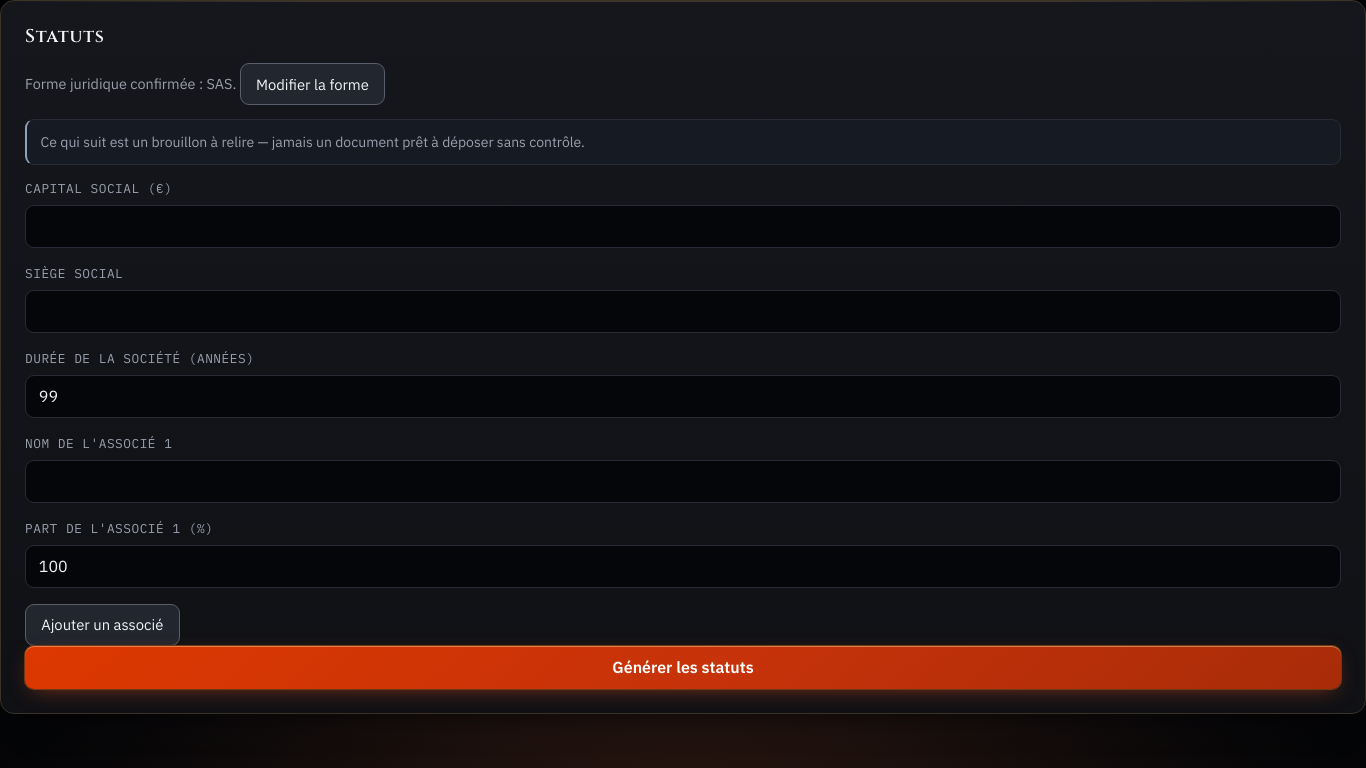
Test: StatutsSection › refuse d'appeler l'API quand les parts ne totalisent pas 100 %
Step 1. Type "1 000,50" into the field labelled "Capital social (€)" → (683, 226), box [25,205,1341,248]
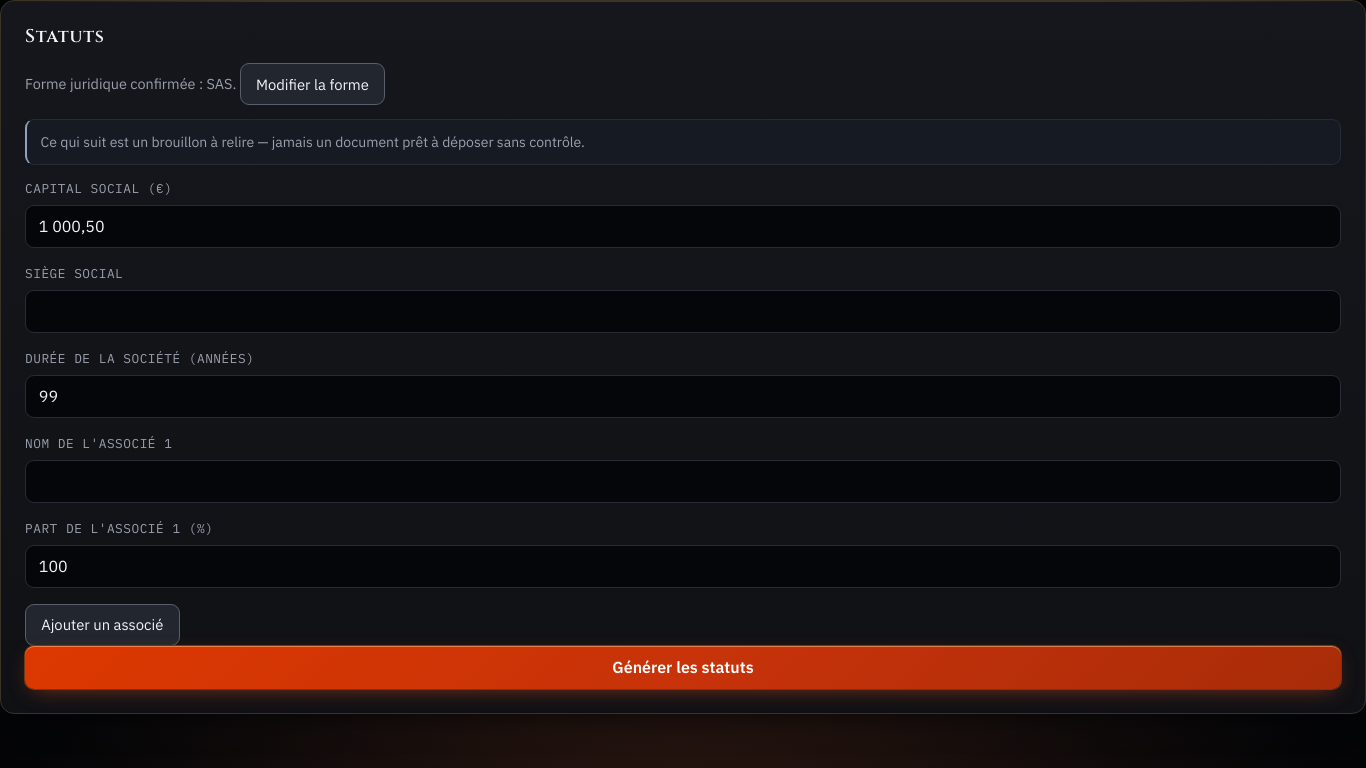
Step 2. Type "1 rue de Paris" into the field labelled "Siège social" → (683, 312), box [25,290,1341,333]
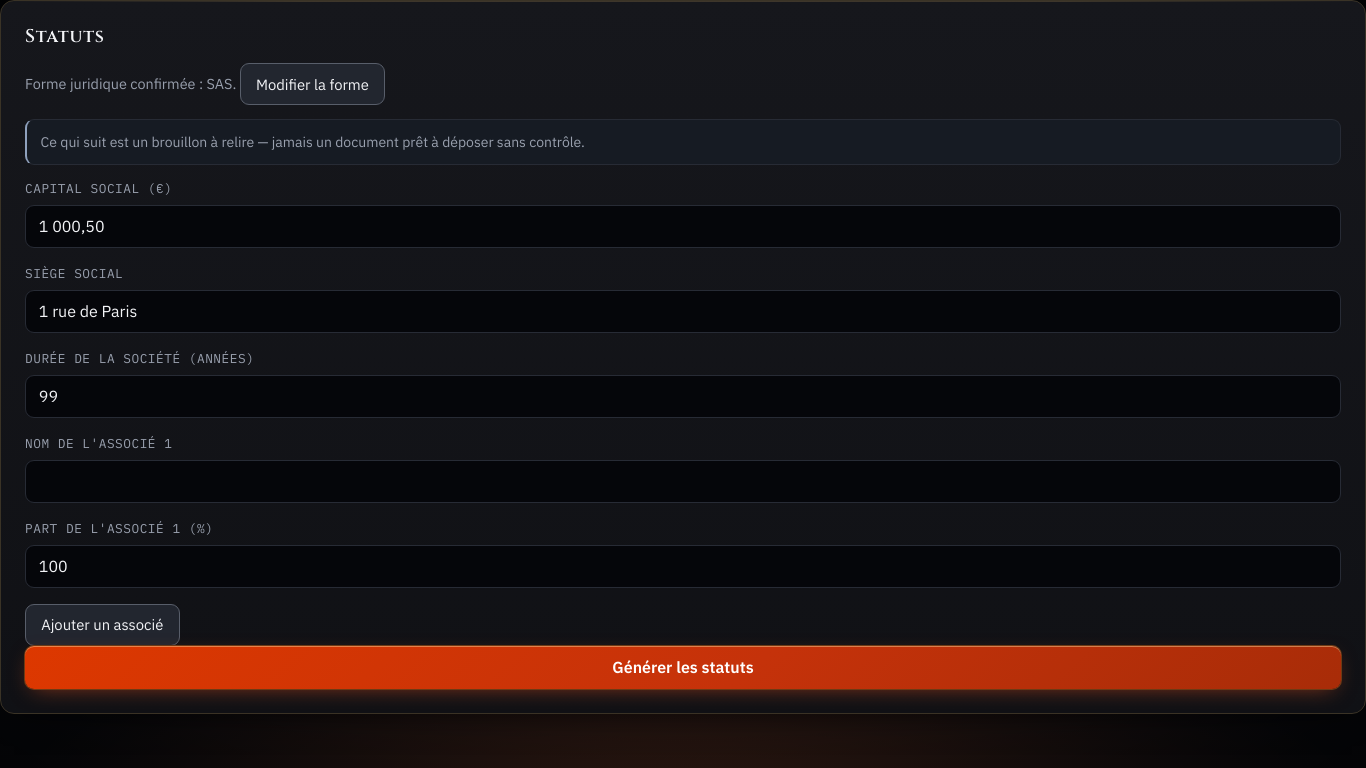
Step 3. Type "Alice" into the field labelled "Nom de l'associé 1" → (683, 482), box [25,460,1341,503]
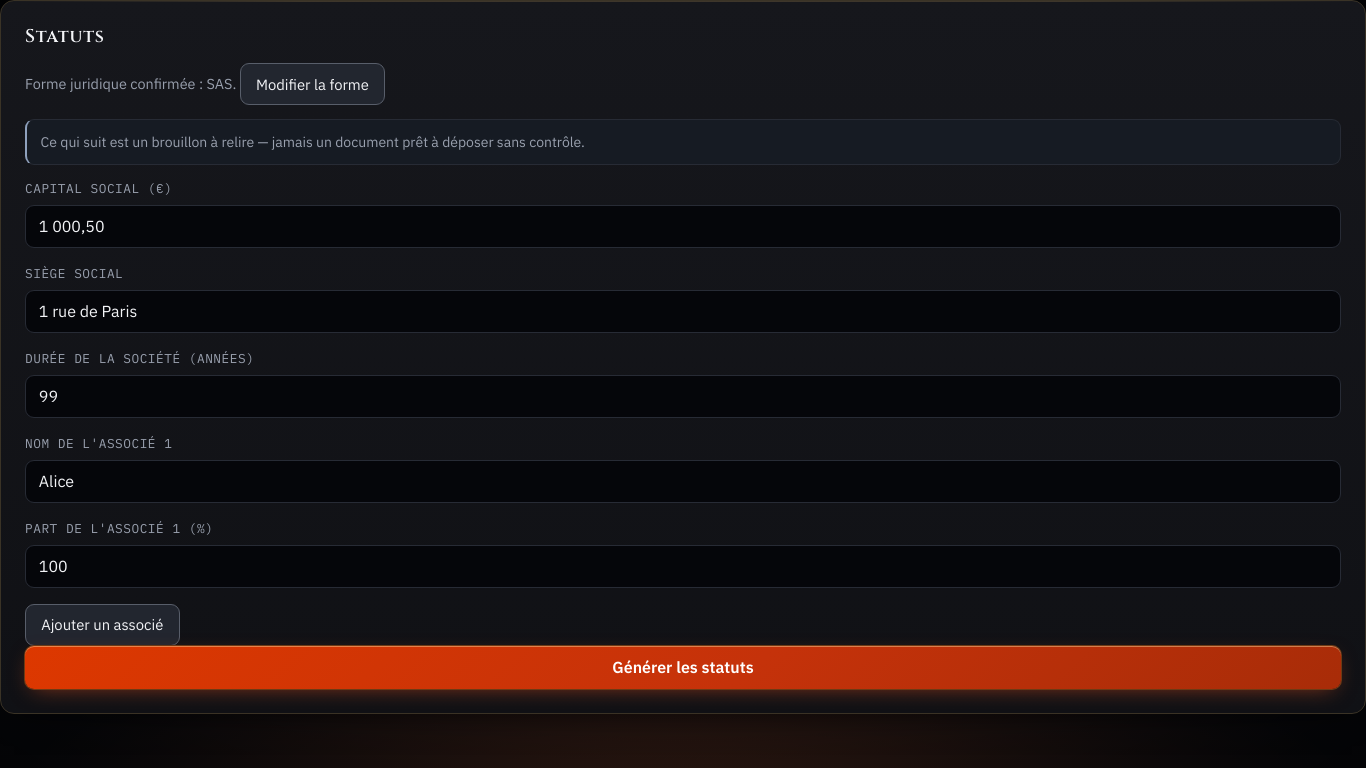
Step 4. Replace the text in the field labelled "Part de l'associé 1 (%)" with "60" → (683, 566), box [25,545,1341,588]
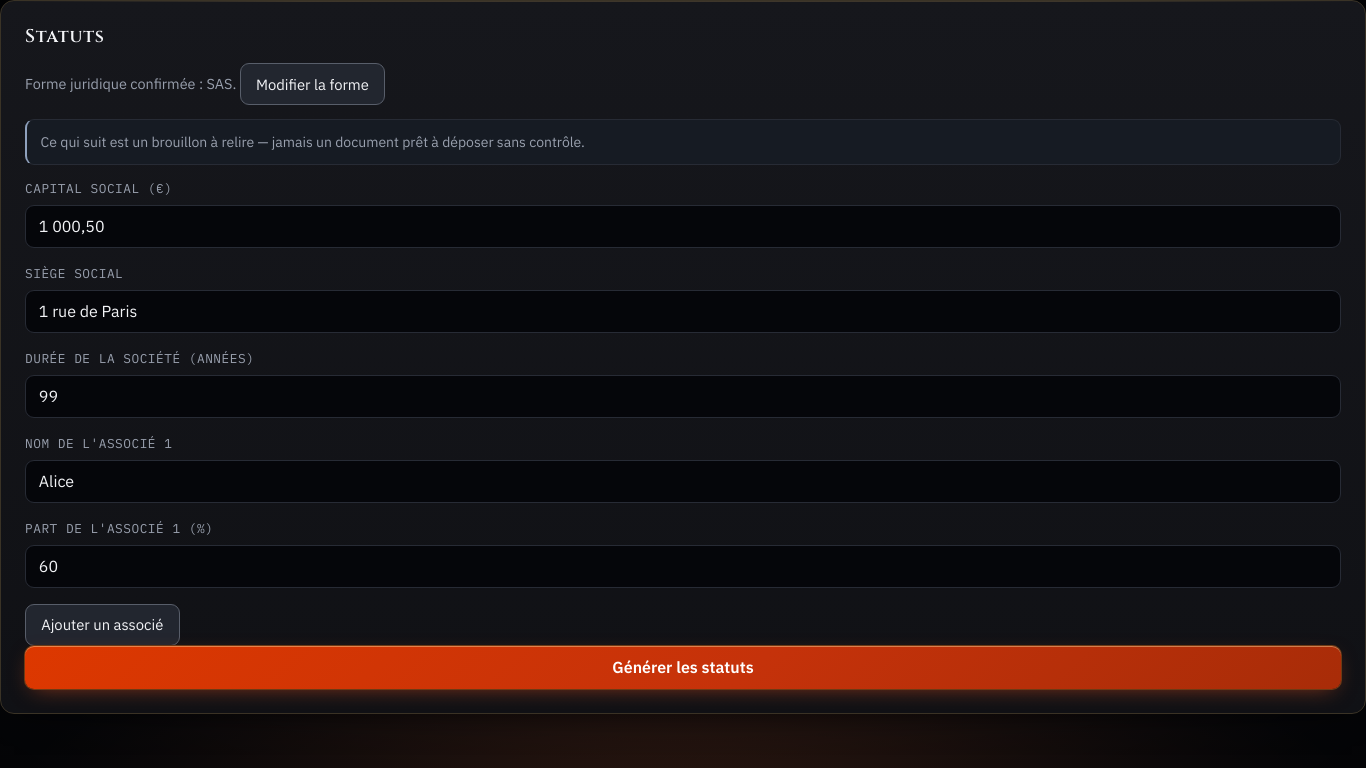
Step 5. Click the button "Générer les statuts" → (683, 667), box [25,646,1341,689]
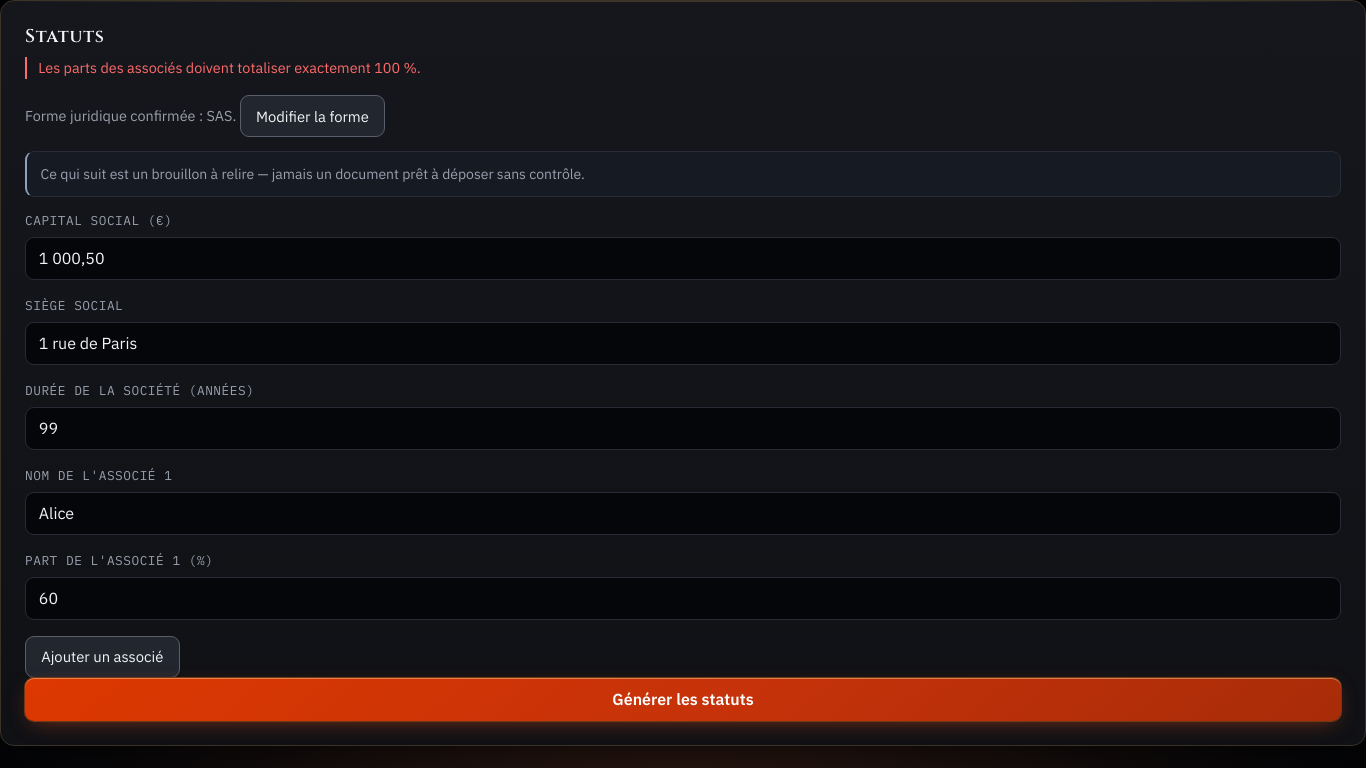
Expected: the text "Les parts des associés doivent totaliser exactement 100 %." is shown, [25,57,1341,79]
